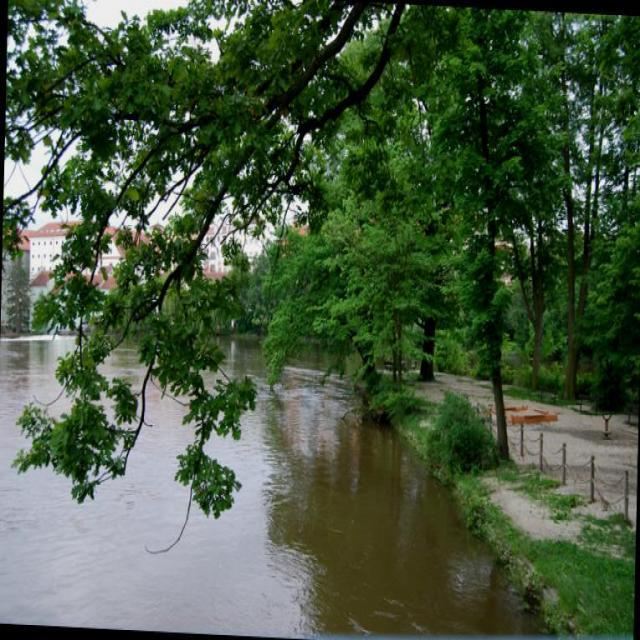flood: (0, 327, 541, 638)
